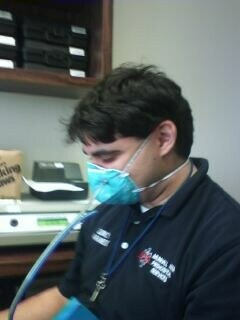n95: (81, 161, 142, 207)
